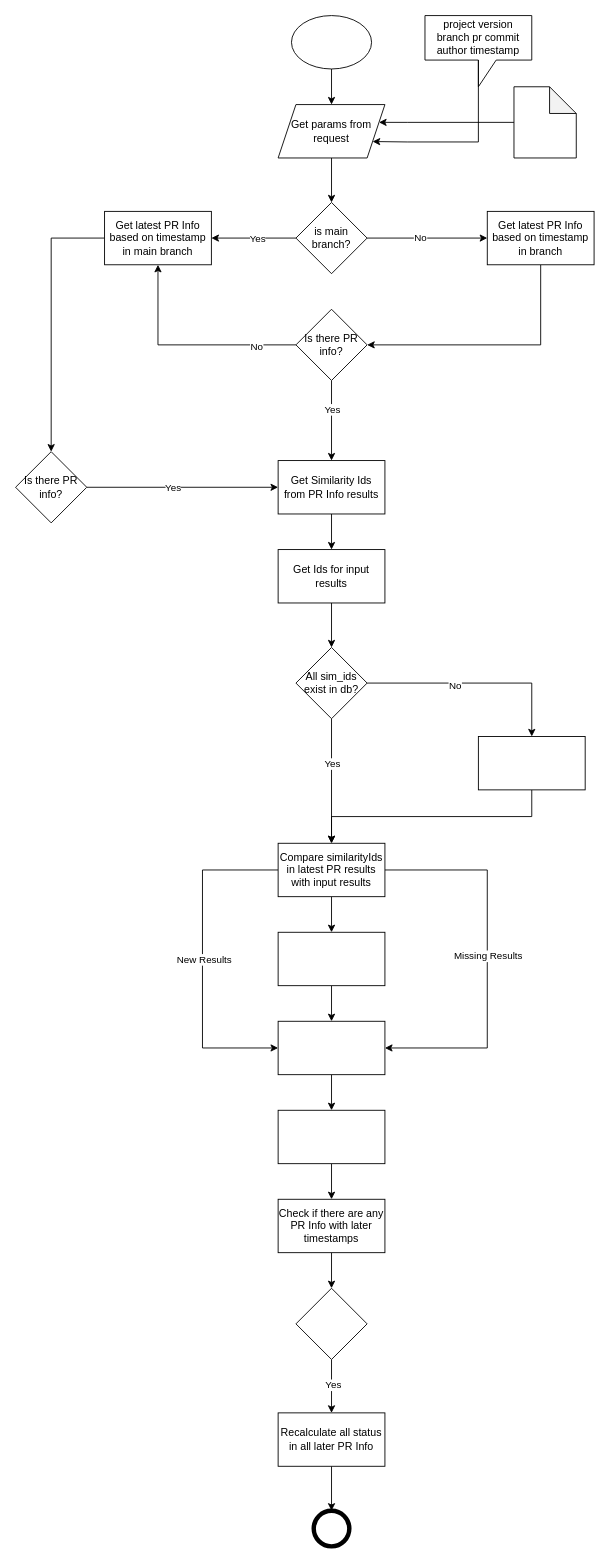
Image size: 610x1564. Some labels were removed from this diagram. Each missing label, with the centre of its shape:
Are there any PR Info?: pixel 331 1323
Delete all status for branch version project pr commit and timestamp: pixel 331 958
Insert new and missing results status: pixel 331 1047
Insert new similarity_id results in DB: pixel 531 763
Inserting PR Info with all result Ids for all results: pixel 331 1136
Receive Post Request: pixel 331 42
results.json: pixel 544 122
